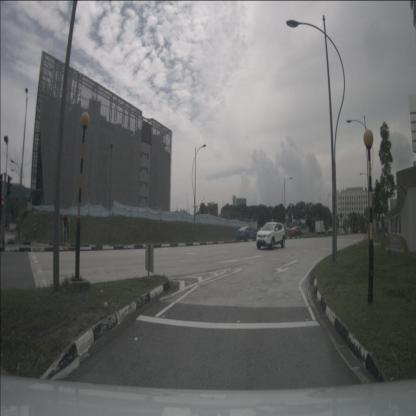vehicle-car: (256, 222, 286, 249), (236, 226, 258, 241), (288, 226, 302, 238), (328, 227, 334, 235), (339, 229, 345, 236)
vehicle-truck: (315, 220, 326, 236)
